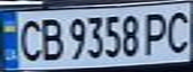3: (84, 14, 106, 61)
5: (103, 12, 124, 60)
8: (118, 11, 145, 57)
9: (63, 14, 87, 61)
B: (36, 16, 66, 62)
C: (12, 16, 45, 63), (163, 7, 193, 55)
P: (139, 9, 172, 56)
